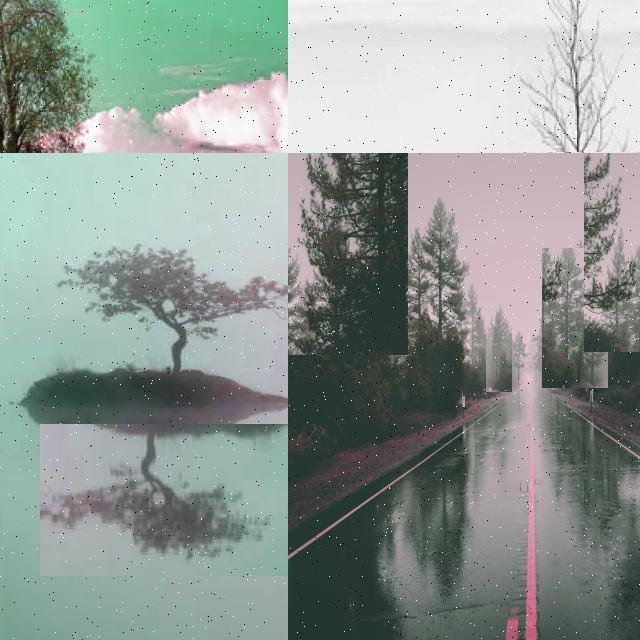tree: (40, 424, 288, 576), (49, 235, 288, 381), (288, 153, 408, 355), (508, 0, 640, 152), (0, 0, 96, 152), (394, 192, 470, 380), (584, 152, 640, 352), (584, 153, 640, 323), (542, 248, 608, 388), (486, 302, 512, 392)
